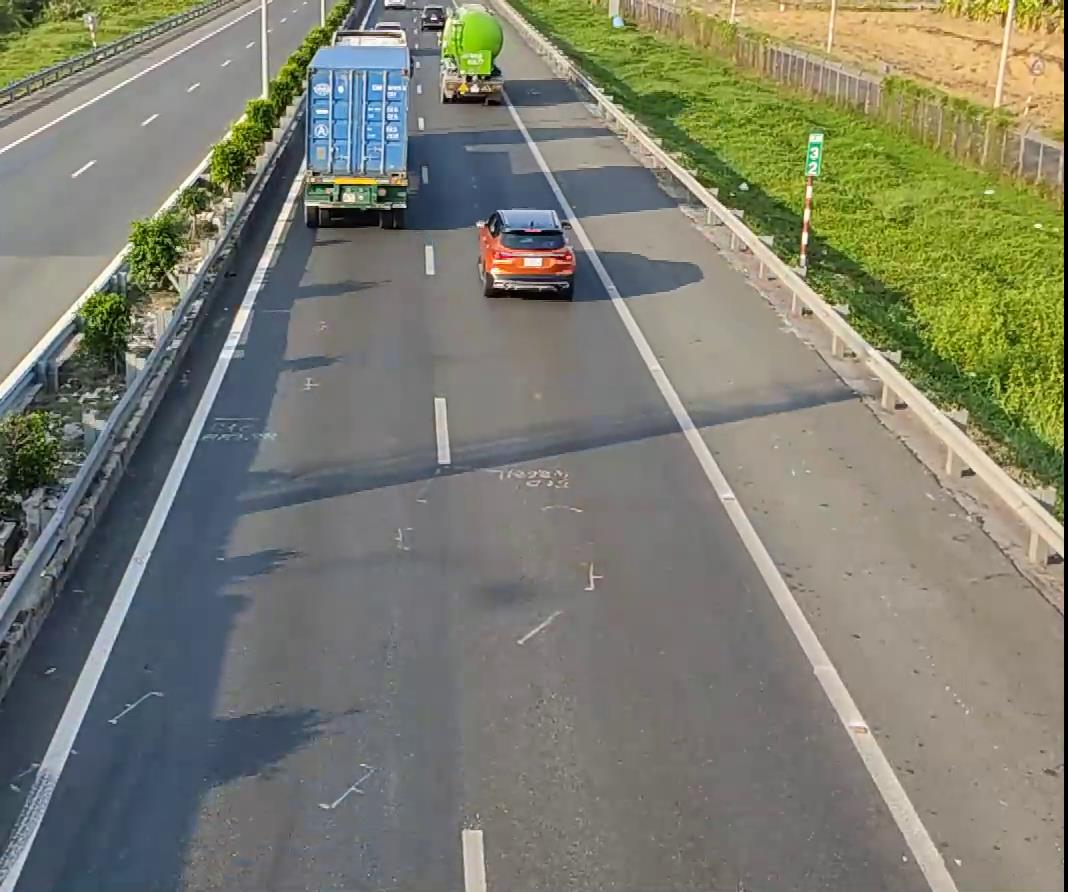car: (476, 208, 576, 298)
container: (299, 22, 414, 227)
truck: (436, 2, 503, 102)
